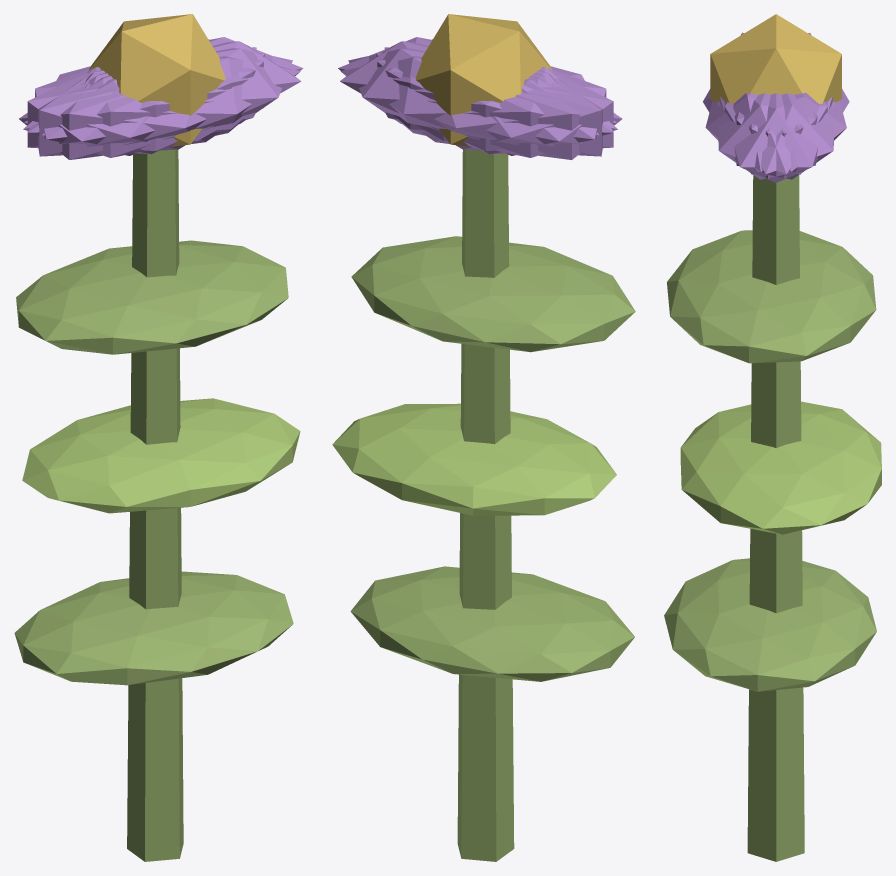
Rendered from ipomoea-triloba.glb.
3 views of the same model, side by side, from view 1: azimuth 30°, elevation 25°; view 2: azimuth 150°, elevation 25°; view 3: azimuth 270°, elevation 25° (orthographic).
Visible parts, largest first — view 1: stem, leaf2, leaf0, leaf1, center, petal1, petal6, petal2, petal5, petal7, petal0, petal4 (+2 smaller); view 2: stem, leaf2, leaf1, leaf0, center, petal8, petal3, petal7, petal4, petal2, petal0, petal5 (+2 smaller); view 3: stem, leaf2, leaf1, leaf0, center, petal0, petal5, petal4, petal1, petal8.
Part boxes in pixels (<box>): stem: <box>127,149,183,861</box>; leaf2: <box>16,240,288,354</box>; leaf0: <box>14,571,293,685</box>; leaf1: <box>22,398,300,513</box>; center: <box>88,14,225,146</box>; petal1: <box>23,56,300,157</box>; petal6: <box>19,68,219,159</box>; petal2: <box>38,47,256,156</box>; petal5: <box>42,48,292,150</box>; petal7: <box>27,53,264,154</box>; petal0: <box>88,41,301,141</box>; petal4: <box>24,37,303,132</box>; stem: <box>457,149,514,861</box>; leaf2: <box>351,236,635,352</box>; leaf1: <box>332,403,616,515</box>; leaf0: <box>350,566,634,681</box>; center: <box>415,14,552,146</box>; petal8: <box>340,56,617,157</box>; petal3: <box>421,68,622,159</box>; petal7: <box>384,47,602,156</box>; petal4: <box>348,48,599,150</box>; petal2: <box>376,53,613,154</box>; petal0: <box>340,41,552,141</box>; petal5: <box>338,37,616,132</box>; stem: <box>747,175,804,861</box>; leaf2: <box>667,230,876,363</box>; leaf1: <box>680,401,881,534</box>; leaf0: <box>664,558,876,691</box>; center: <box>710,14,841,103</box>; petal0: <box>719,93,832,182</box>; petal5: <box>718,93,827,179</box>; petal4: <box>724,93,834,179</box>; petal1: <box>705,93,817,171</box>; petal8: <box>734,93,846,171</box>.
Bounding box in the file's own units: 0.1452 × 0.4203 × 0.1015.
